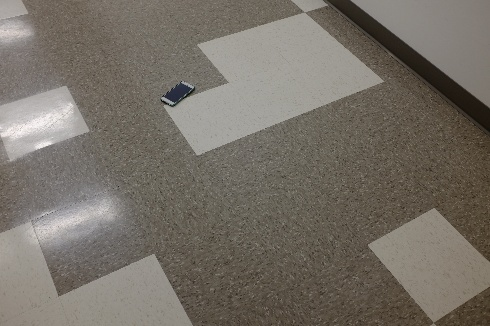phone: (155, 77, 204, 109)
